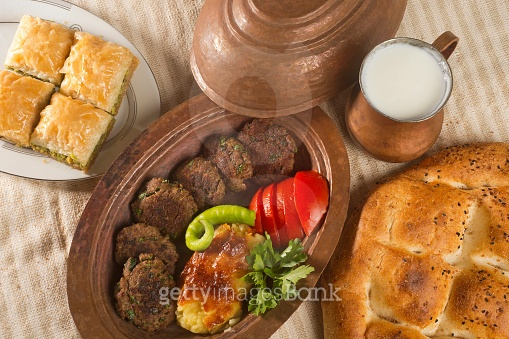glass of milk: (360, 25, 456, 159)
meatballs: (116, 255, 180, 328), (130, 178, 198, 240), (239, 118, 301, 178), (113, 223, 180, 275), (175, 155, 227, 203), (213, 137, 254, 193)
